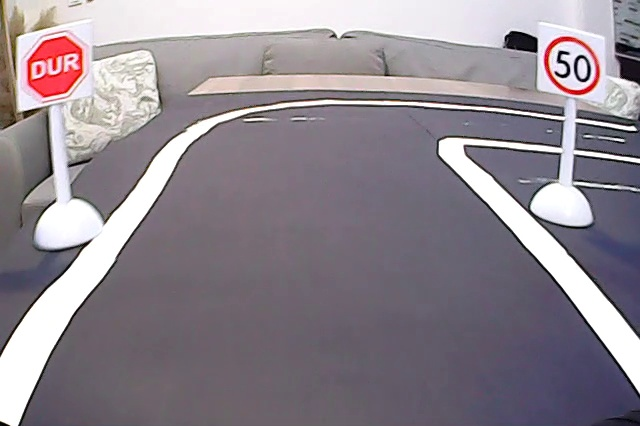speed limit 50: (542, 32, 600, 97)
stop sign: (15, 34, 93, 102)
